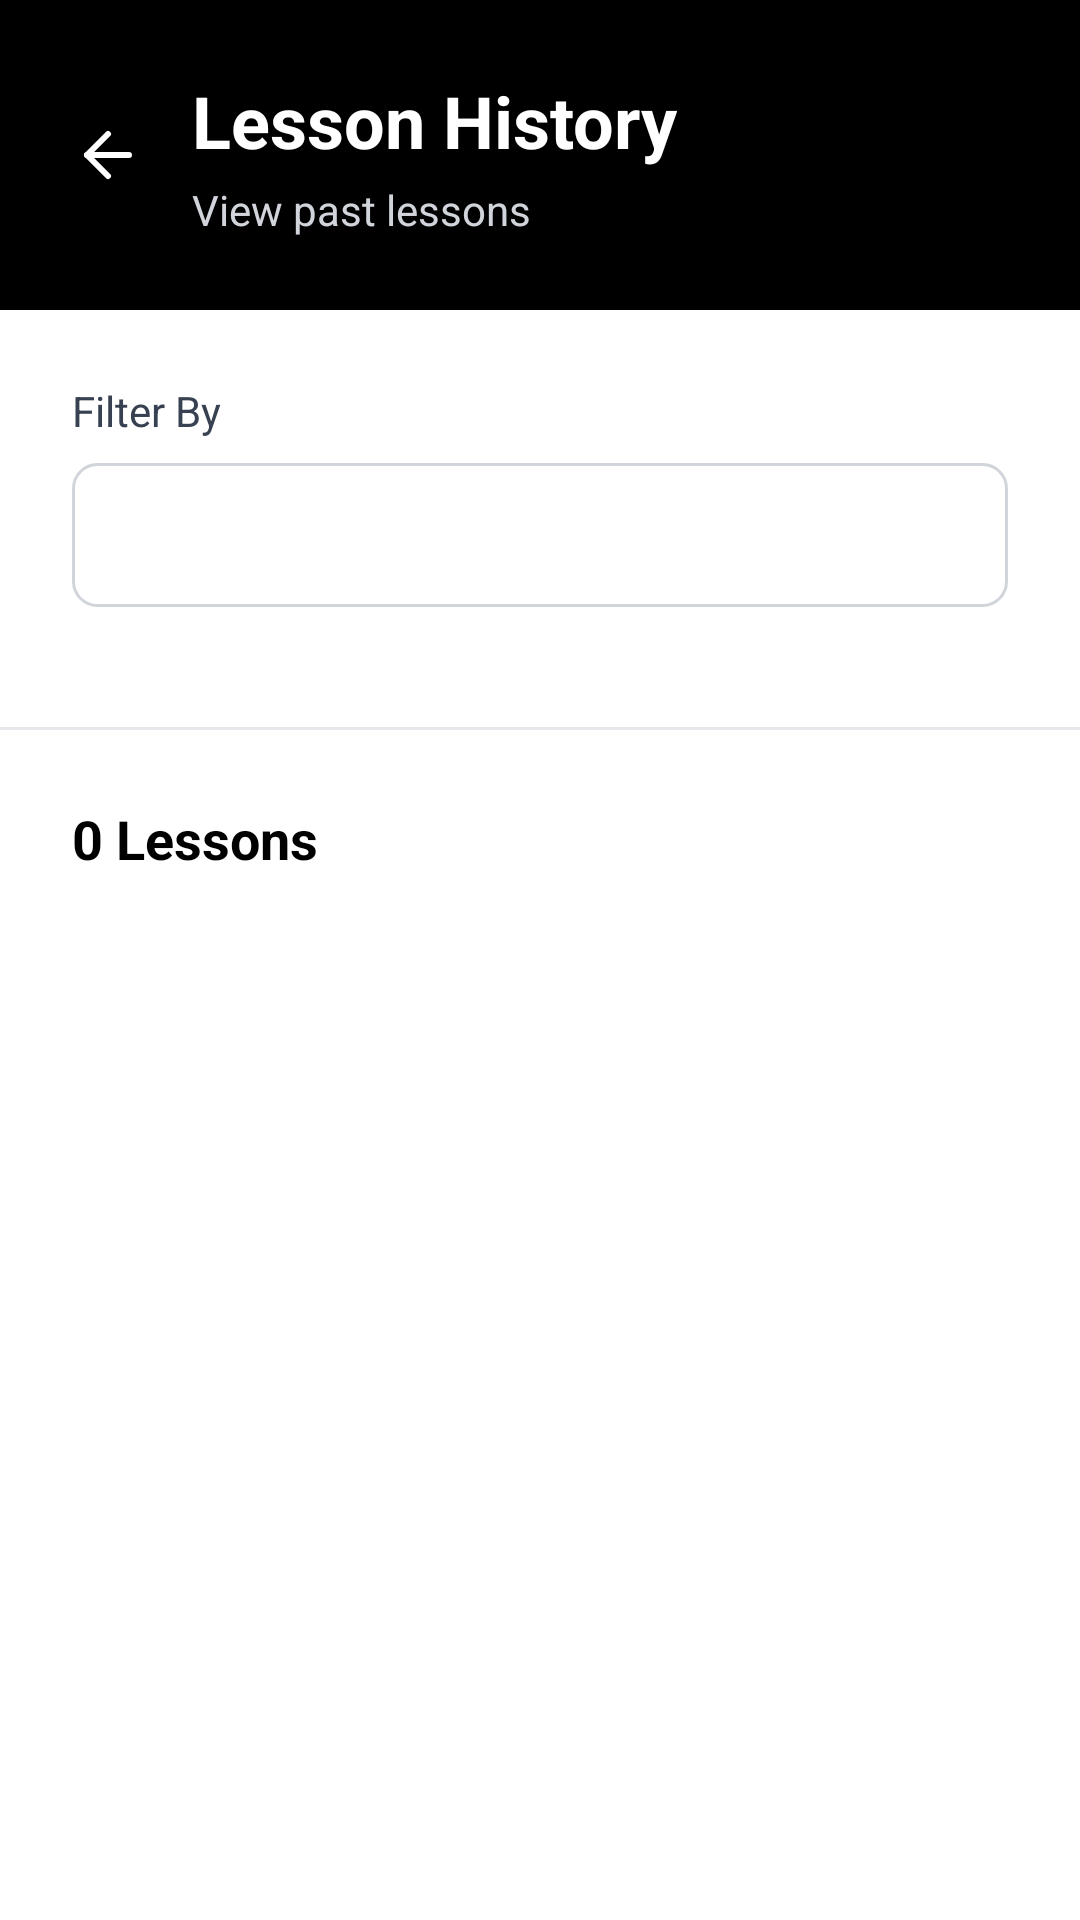

Icon click points for this 1080px x 1920px phone screenshot, format (x=x, y=y):
arrow left: (x=108, y=155)
